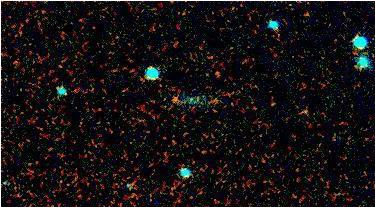star: (158, 83, 188, 113)
